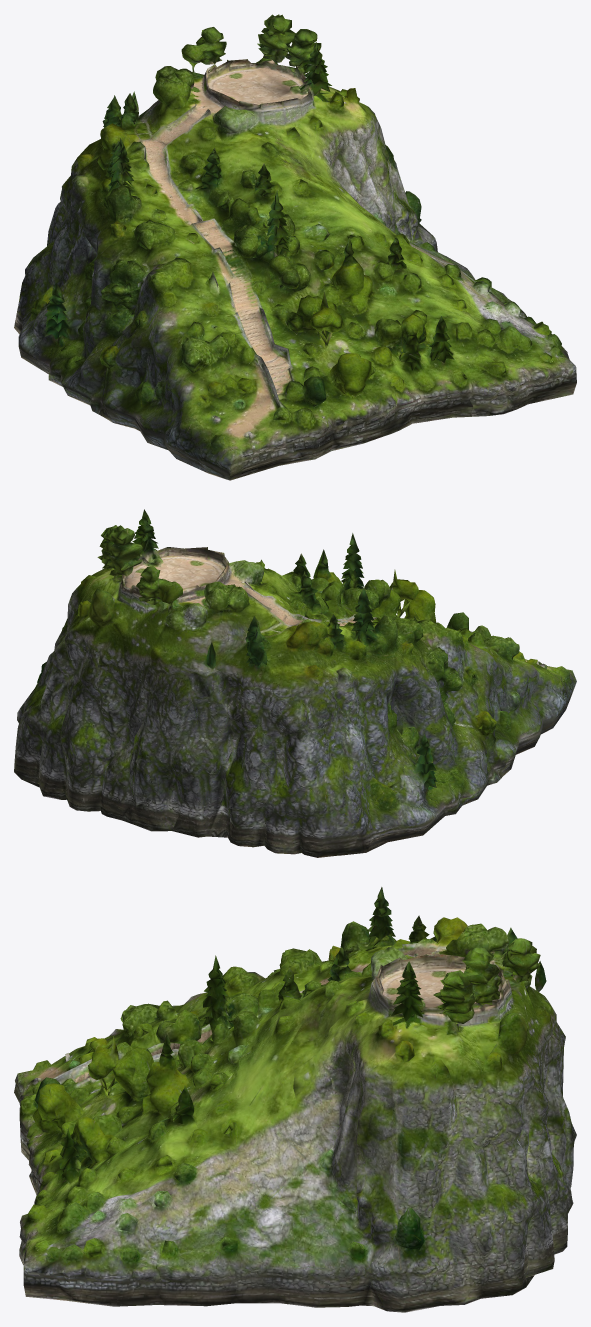
File: city_ordu_boztepe_hill.glb
3 renders of one model, top to bottom at view 1: azimuth 30°, elevation 25°; view 2: azimuth 150°, elevation 25°; view 3: azimuth 270°, elevation 25°, orthographic. The views are drawn at different scales.
Parts seen in each view (by area): view 1: Mesh1.0; view 2: Mesh1.0; view 3: Mesh1.0.
Part boxes in pixels (<box>): Mesh1.0: <box>14,14,576,480</box>; Mesh1.0: <box>14,509,576,857</box>; Mesh1.0: <box>14,887,576,1312</box>.
Size of the model in its own units: 43.57 by 26 by 45.09.
Materials: 1 (1 with a texture image).
